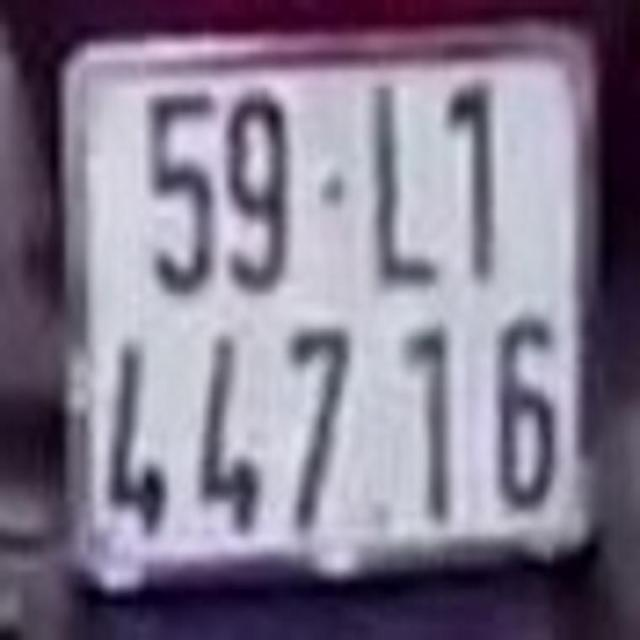1: (399, 326, 462, 516), (448, 80, 498, 282)
4: (192, 334, 263, 528), (108, 337, 174, 528)
5: (147, 92, 212, 286)
6: (490, 314, 553, 504)
7: (284, 326, 354, 532)
9: (222, 92, 294, 292)
L: (372, 84, 439, 288)
